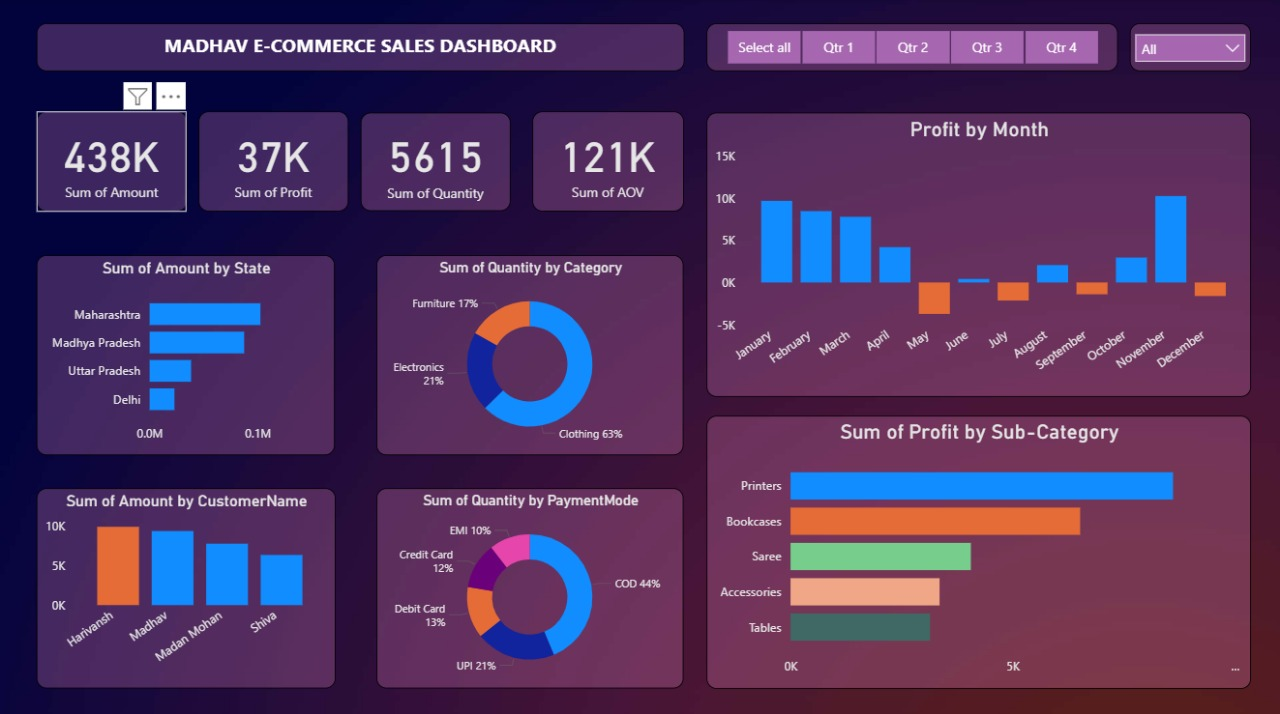

Layout of this report page (visuals, bound fields, positions):
{"tool":"powerbi","page":{"name":"Page 1","canvas":[1280,720],"ordinal":0},"visuals":[{"type":"textbox","box":[37,24.7,646.3,48],"z":0},{"type":"columnChart","title":"Profit by Month","fields":{"Category":["Orders.Order Date.Variation.Date Hierarchy.Month"],"Y":["Details.Profit"]},"box":[705.3,113.9,543.4,284],"z":1000},{"type":"barChart","fields":{"Category":["Details.Sub-Category"],"Y":["Details.Profit"]},"box":[705.3,415.8,543.4,273.1],"z":2000},{"type":"donutChart","fields":{"Y":["Details.Quantity"],"Category":["Details.Category"]},"box":[376.4,255.8,306.4,200.3],"z":3000},{"type":"donutChart","fields":{"Y":["Details.Quantity"],"Category":["Details.PaymentMode"]},"box":[376.4,488.6,306.4,200.3],"z":4000},{"type":"barChart","fields":{"Y":["Details.Amount"],"Category":["Orders.State"]},"box":[37,255.2,297.8,200.3],"z":5000},{"type":"columnChart","fields":{"Category":["Orders.CustomerName"],"Y":["Details.Amount"]},"box":[37,489,298,200],"z":6000},{"type":"card","fields":{"Values":["Details.Amount"]},"box":[37,112.5,150,100],"z":7000},{"type":"card","fields":{"Values":["Details.AOV"]},"box":[532.4,112.5,150.9,100.2],"z":8000},{"type":"card","fields":{"Values":["Details.Quantity"]},"box":[360.9,113.9,149.6,98.8],"z":9000},{"type":"card","fields":{"Values":["Details.Profit"]},"box":[199,112.5,149.6,100.2],"z":10000},{"type":"slicer","fields":{"Values":["Orders.Order Date.Variation.Date Hierarchy.Quarter"]},"box":[705.3,24.7,410,48],"z":11000},{"type":"slicer","fields":{"Values":["Orders.State"]},"box":[1128,24.7,120.8,48],"z":12000}]}

Visuals, with their boxes in screenshot pixels (x1, y1, x2, y2), scaled from the page's 1280x720 canvas onto the 1280x714 screenshot:
textbox: <box>37,24,683,72</box>
"Profit by Month" columnChart: <box>705,113,1249,395</box>
barChart - Details.Sub-Category x Details.Profit: <box>705,412,1249,683</box>
donutChart - Details.Quantity x Details.Category: <box>376,254,683,452</box>
donutChart - Details.Quantity x Details.PaymentMode: <box>376,485,683,683</box>
barChart - Details.Amount x Orders.State: <box>37,253,335,452</box>
columnChart - Orders.CustomerName x Details.Amount: <box>37,485,335,683</box>
card - Details.Amount: <box>37,112,187,211</box>
card - Details.AOV: <box>532,112,683,211</box>
card - Details.Quantity: <box>361,113,510,211</box>
card - Details.Profit: <box>199,112,349,211</box>
slicer - Orders.Order Date.Variation.Date Hierarchy.Quarter: <box>705,24,1115,72</box>
slicer - Orders.State: <box>1128,24,1249,72</box>
